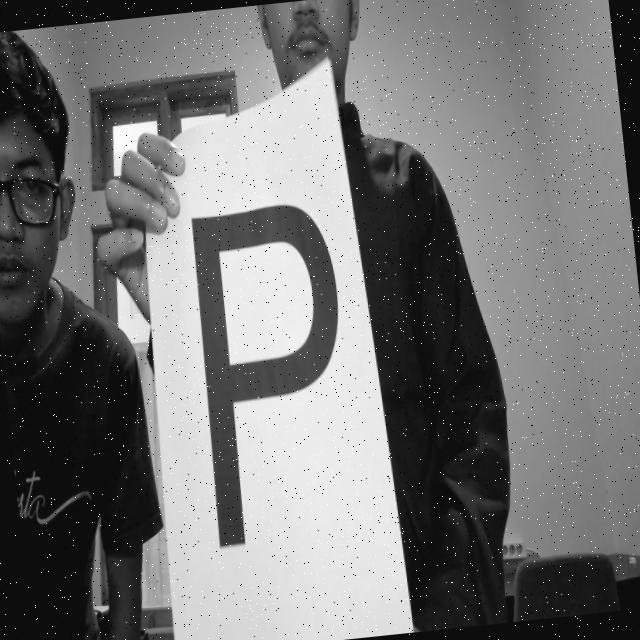p: (179, 196, 375, 586)
